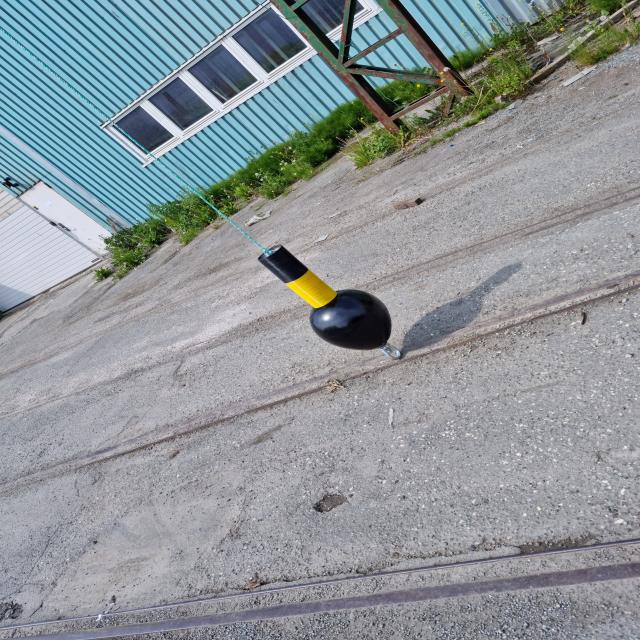east: (257, 246, 394, 352)
